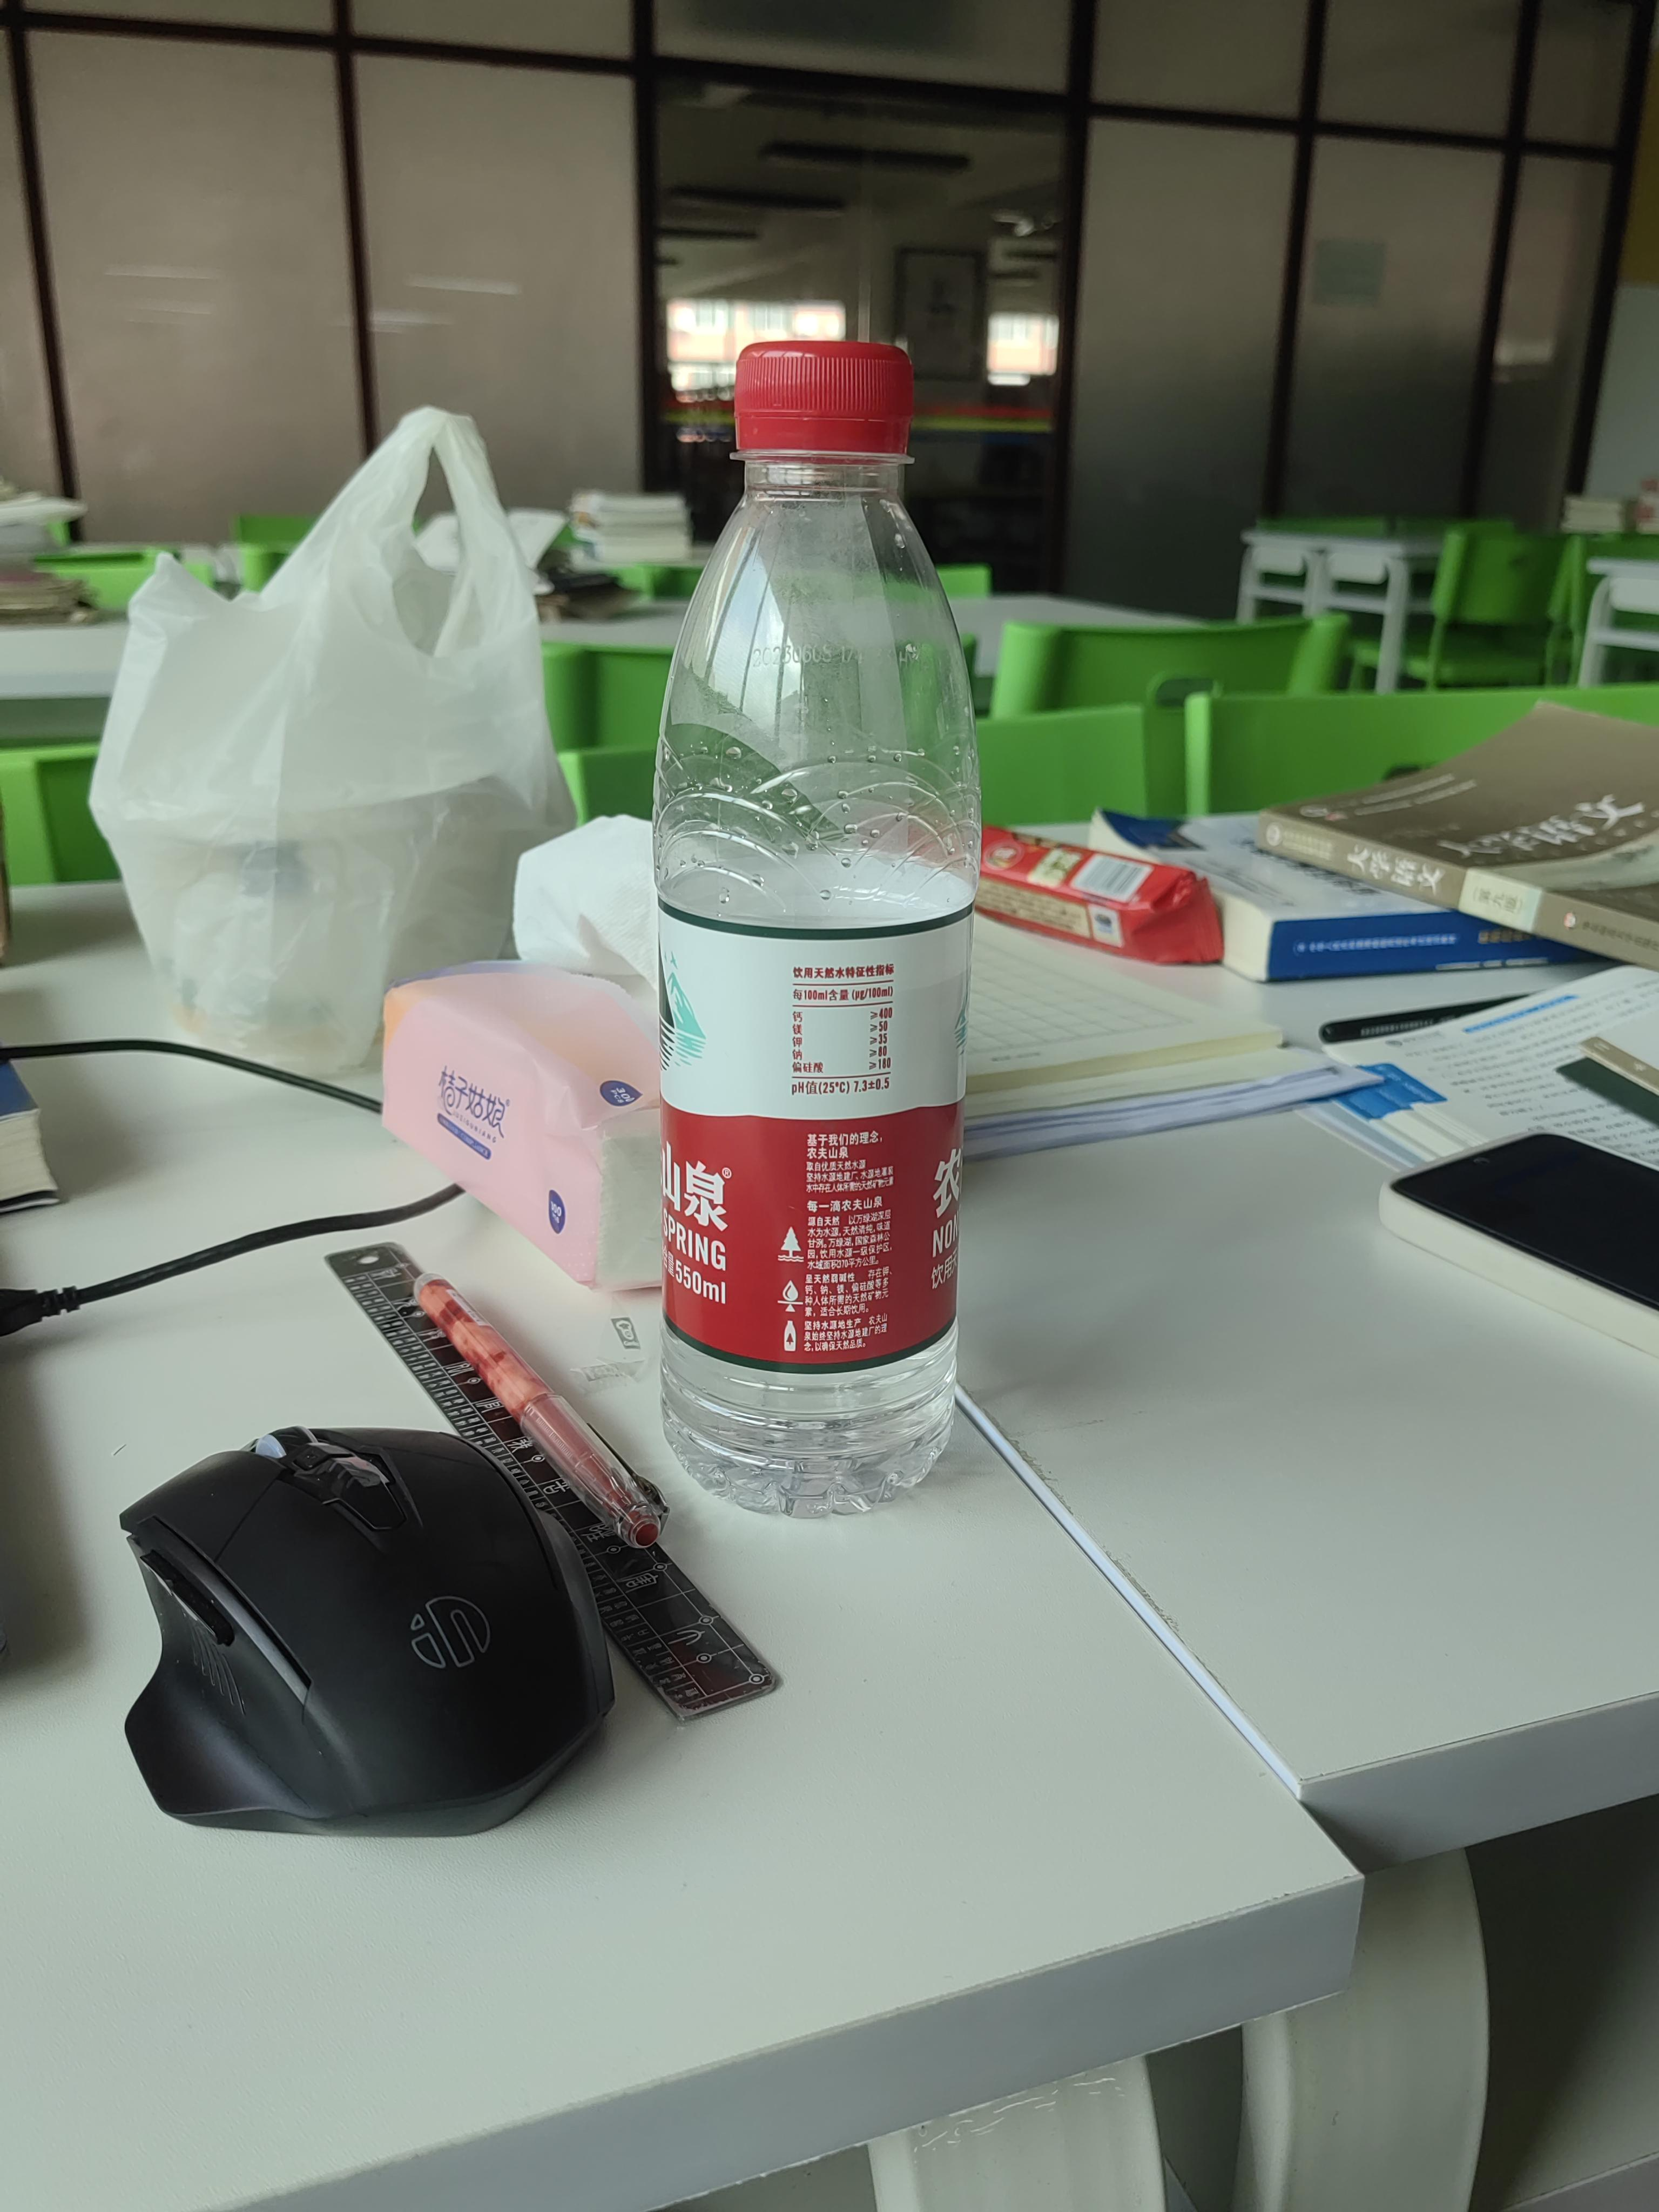BIODEGRADABLE: (666, 342, 987, 1526)
